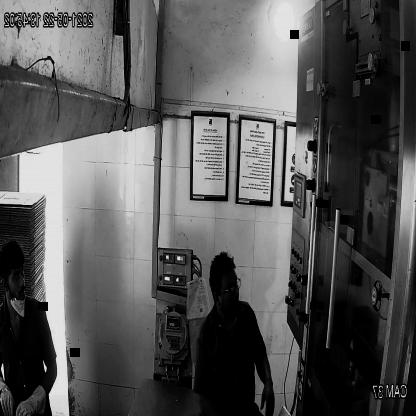goggles: (215, 273, 242, 297)
no_goggles: (1, 265, 26, 284)
